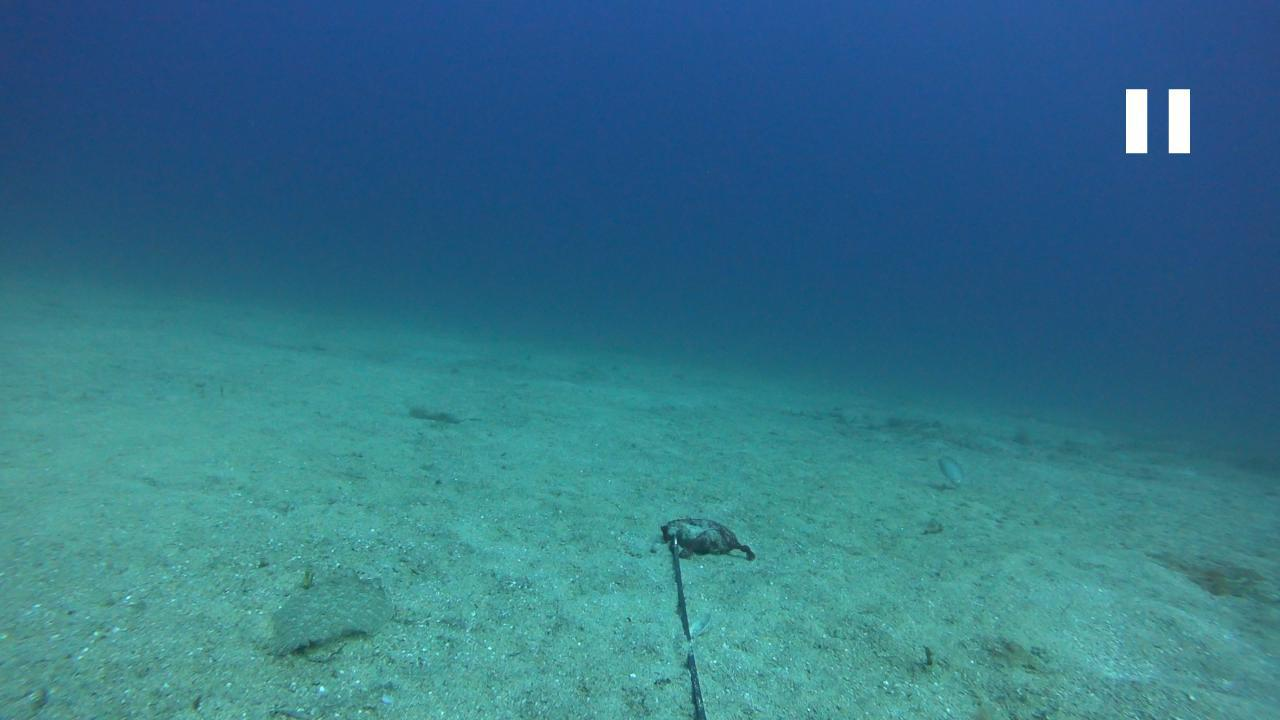bothus: (252, 562, 393, 668)
